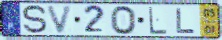2: (81, 4, 108, 36)
L: (175, 7, 197, 35), (148, 6, 169, 35)
O: (109, 4, 138, 36)
S: (21, 4, 49, 35)
V: (46, 5, 75, 35)
